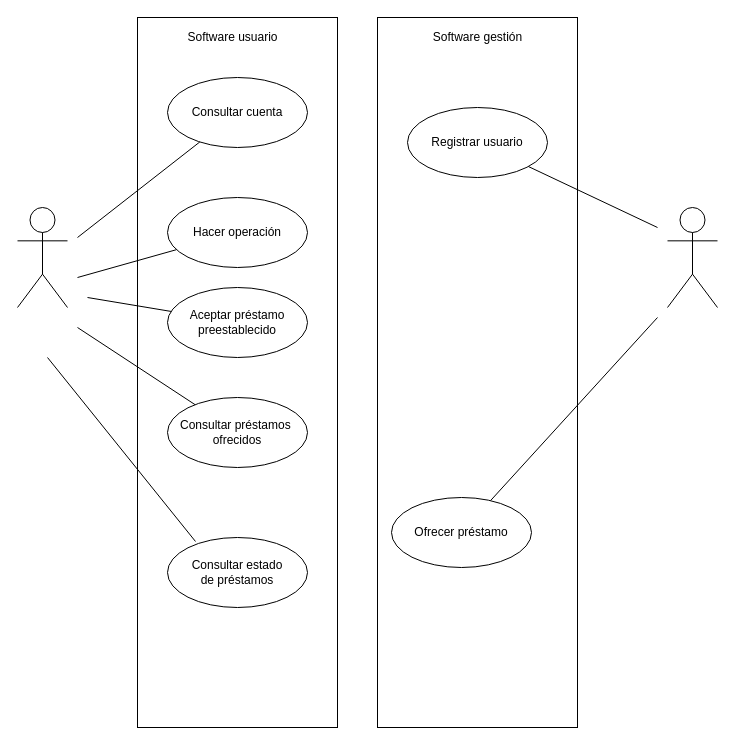
Some shapes in this 736 by 745 pixel diagram are drawn without their labels. Each missing label, with the centre of its shape:
"Banquero" goes at (x=692, y=257).
"Cliente" goes at (x=42, y=257).
